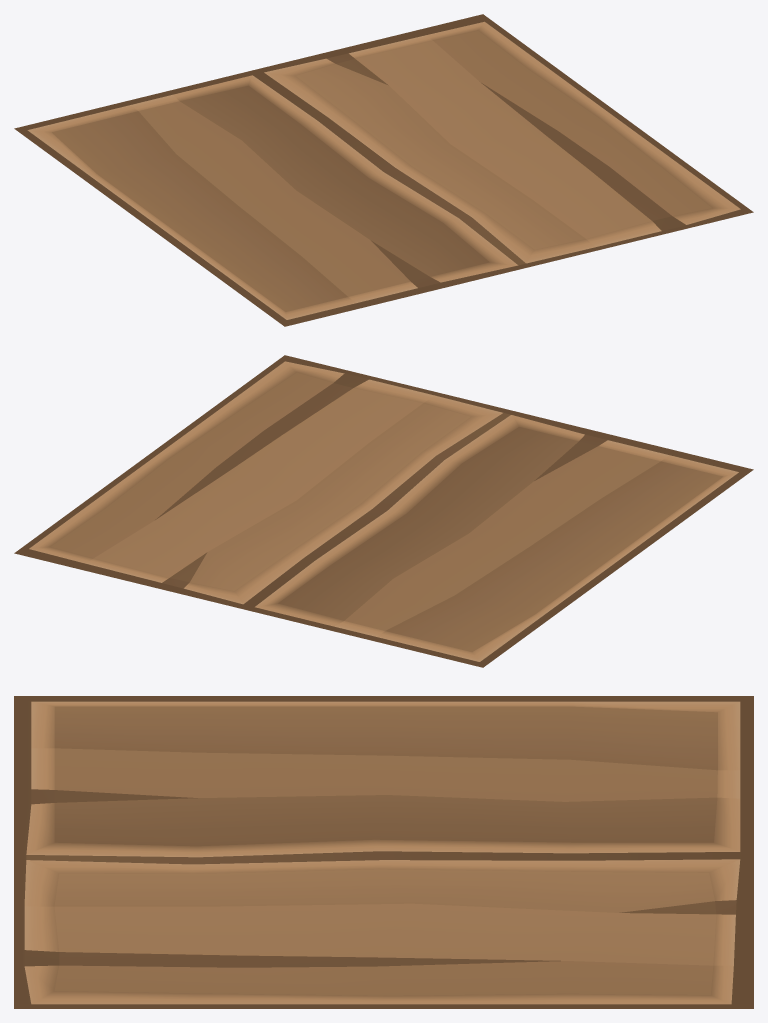
The model's file is wood_floor_02.fbx.
The picture shows the model from 3 angles, top to bottom: view 1: azimuth 30°, elevation 25°; view 2: azimuth 150°, elevation 25°; view 3: azimuth 270°, elevation 25°; orthographic projection. The views are drawn at different scales.
Visible parts, largest first — view 1: wood_floor_02; view 2: wood_floor_02; view 3: wood_floor_02.
Part boxes in pixels (<box>): wood_floor_02: <box>14,14,753,326</box>; wood_floor_02: <box>14,355,753,667</box>; wood_floor_02: <box>14,696,753,1008</box>.
Bounding box in the file's own units: 100 × 3.73e-13 × 100.
